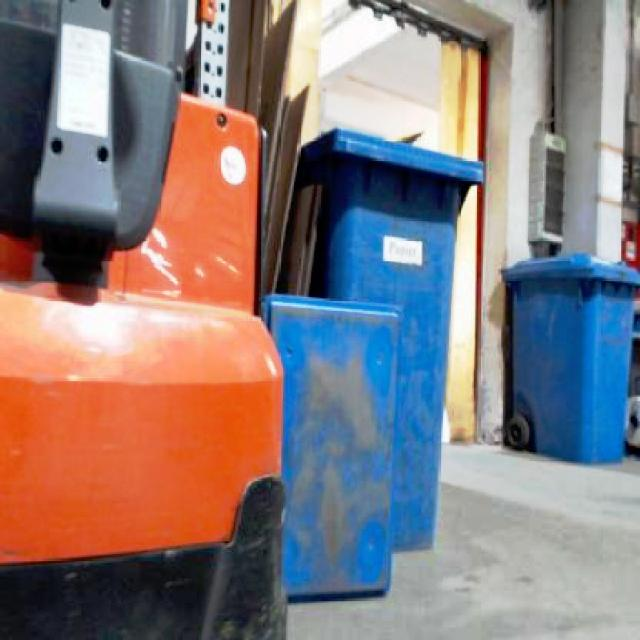ground: (280, 438, 638, 638)
